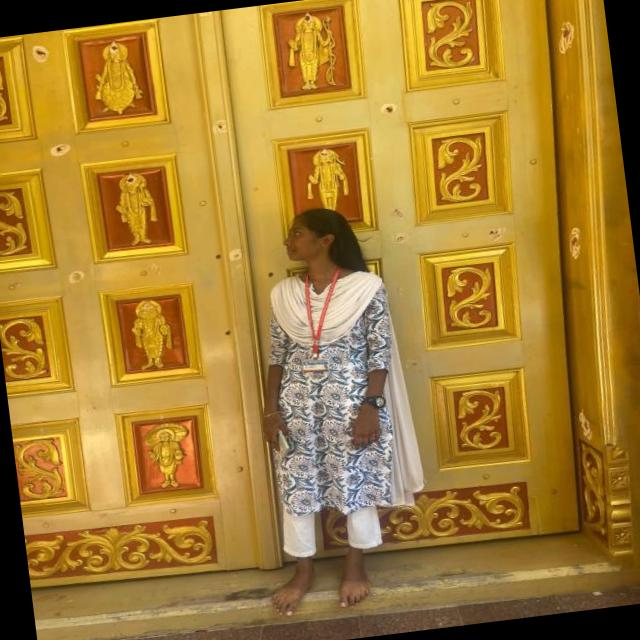id_card: (285, 268, 356, 380)
